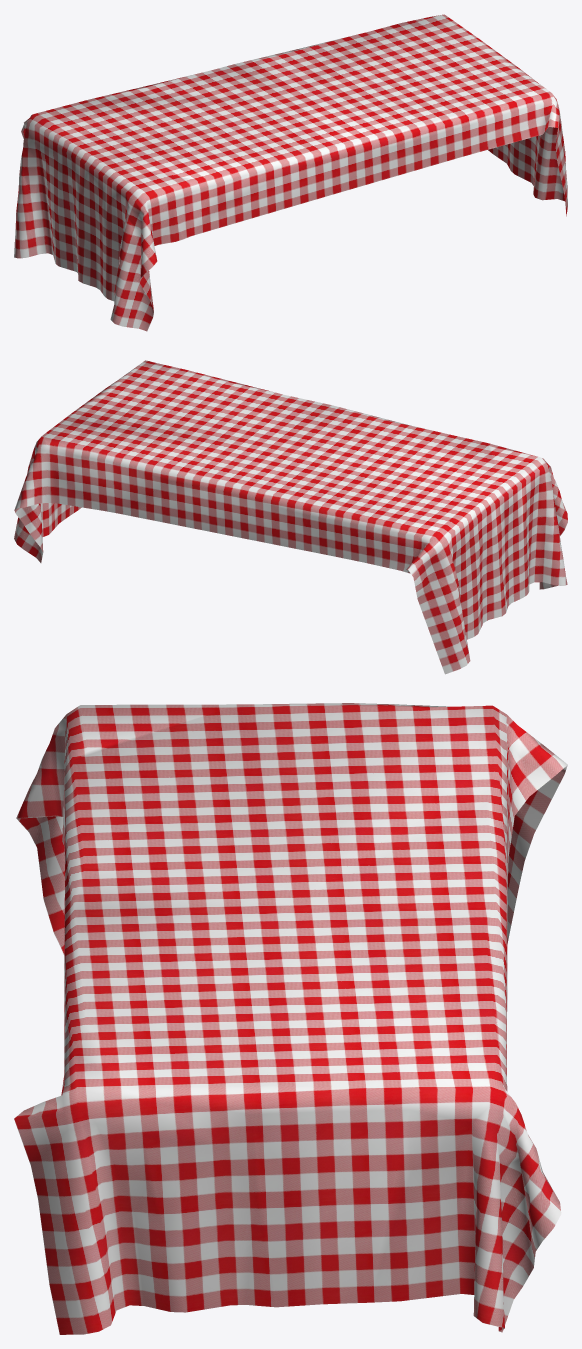
Rendered from Tablecloth_1_Wide.FBX.
3 renders of one model, top to bottom at view 1: azimuth 30°, elevation 25°; view 2: azimuth 150°, elevation 25°; view 3: azimuth 270°, elevation 25°, orthographic. The views are drawn at different scales.
Parts seen in each view (by area): view 1: Tablecloth 1; view 2: Tablecloth 1; view 3: Tablecloth 1.
Part boxes in pixels (x1=…): Tablecloth 1: x1=14, y1=14, x2=567, y2=331; Tablecloth 1: x1=14, y1=360, x2=567, y2=674; Tablecloth 1: x1=14, y1=703, x2=567, y2=1334.
Size of the model in its own units: 78.01 by 22.64 by 41.99.
